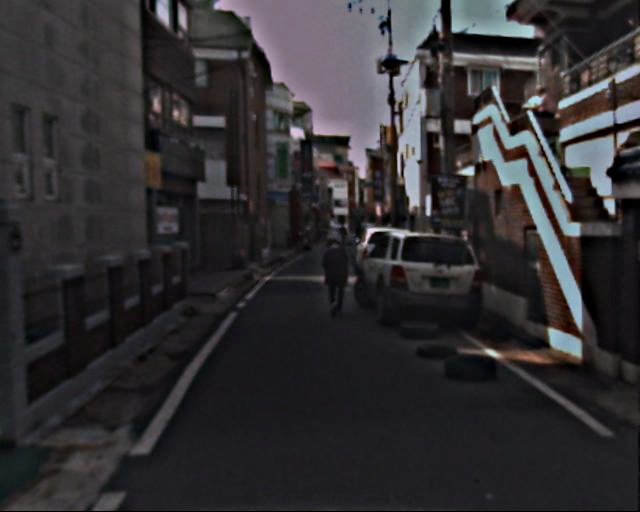person: (317, 235, 352, 321)
